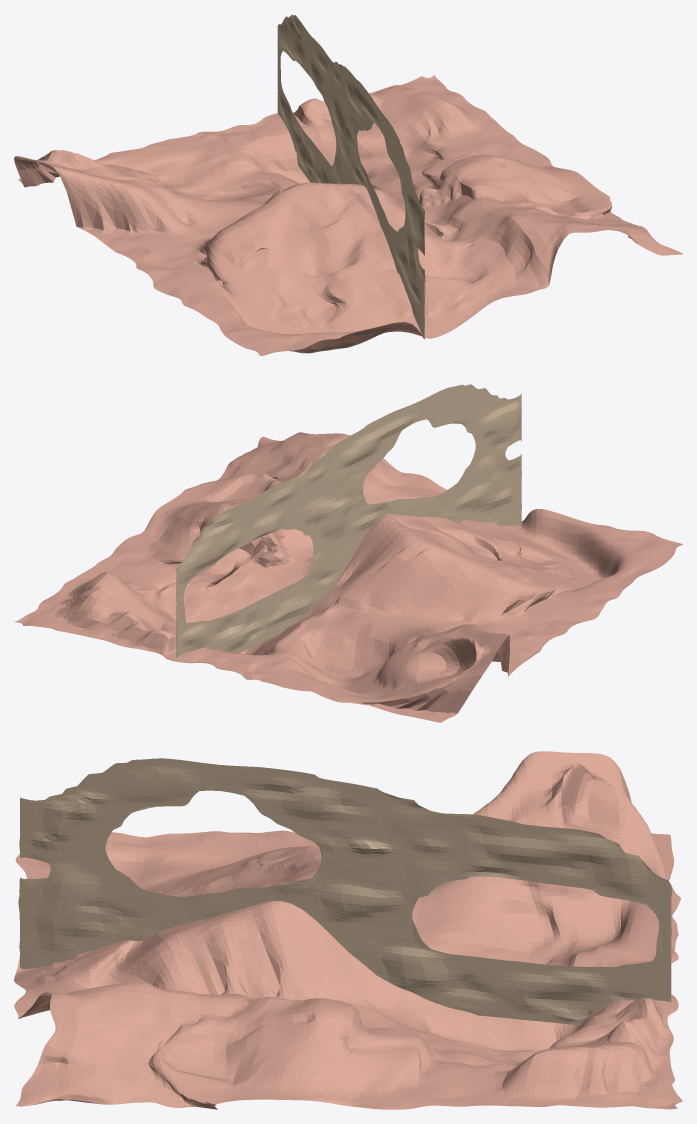
Rendered from envir3d_1.dae.
3 views of the same model, one above another, from view 1: azimuth 30°, elevation 25°; view 2: azimuth 150°, elevation 25°; view 3: azimuth 270°, elevation 25° (orthographic). The views are drawn at different scales.
Parts seen in each view (by area): view 1: Plane, Cube; view 2: Plane, Cube; view 3: Plane, Cube.
Part boxes in pixels (x1,y1,x2,y2): Plane: [14, 75, 682, 355]; Cube: [277, 14, 425, 339]; Plane: [15, 432, 682, 722]; Cube: [176, 384, 521, 656]; Plane: [14, 751, 682, 1109]; Cube: [18, 758, 672, 1025].
Bounding box in the file's own units: 8.37 × 8.12 × 3.37.
